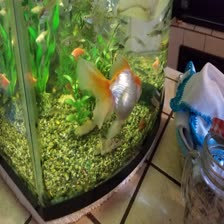Cuezo: (68, 57, 144, 126)
Guppy: (33, 24, 49, 42), (29, 3, 46, 15)
